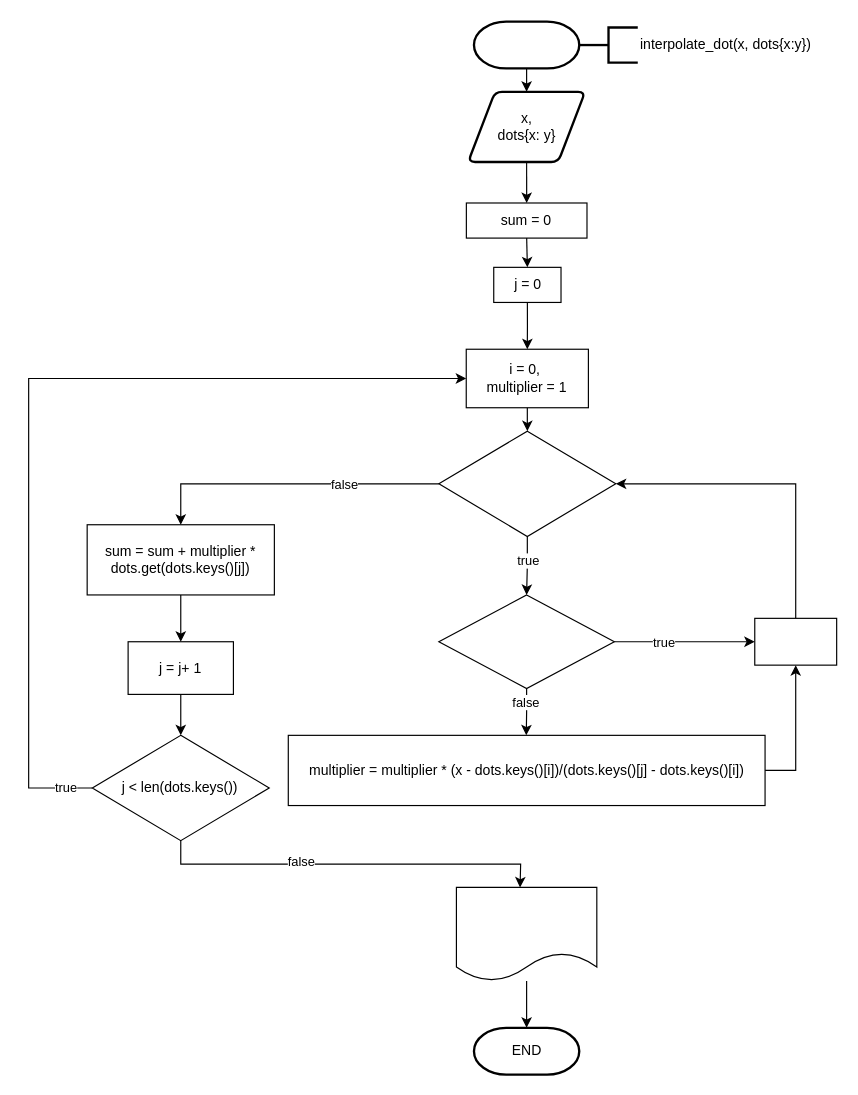
Image size: 858x1095. Some labels were removed from this diagram. Here are the shapes that lost their labels. From the top down, the centre of each, then its label:
the point at 526,44: START
the point at 527,483: i < len(dots.keys())
the point at 526,641: i == j
the point at 795,641: i = i + 1
the point at 526,933: sum
